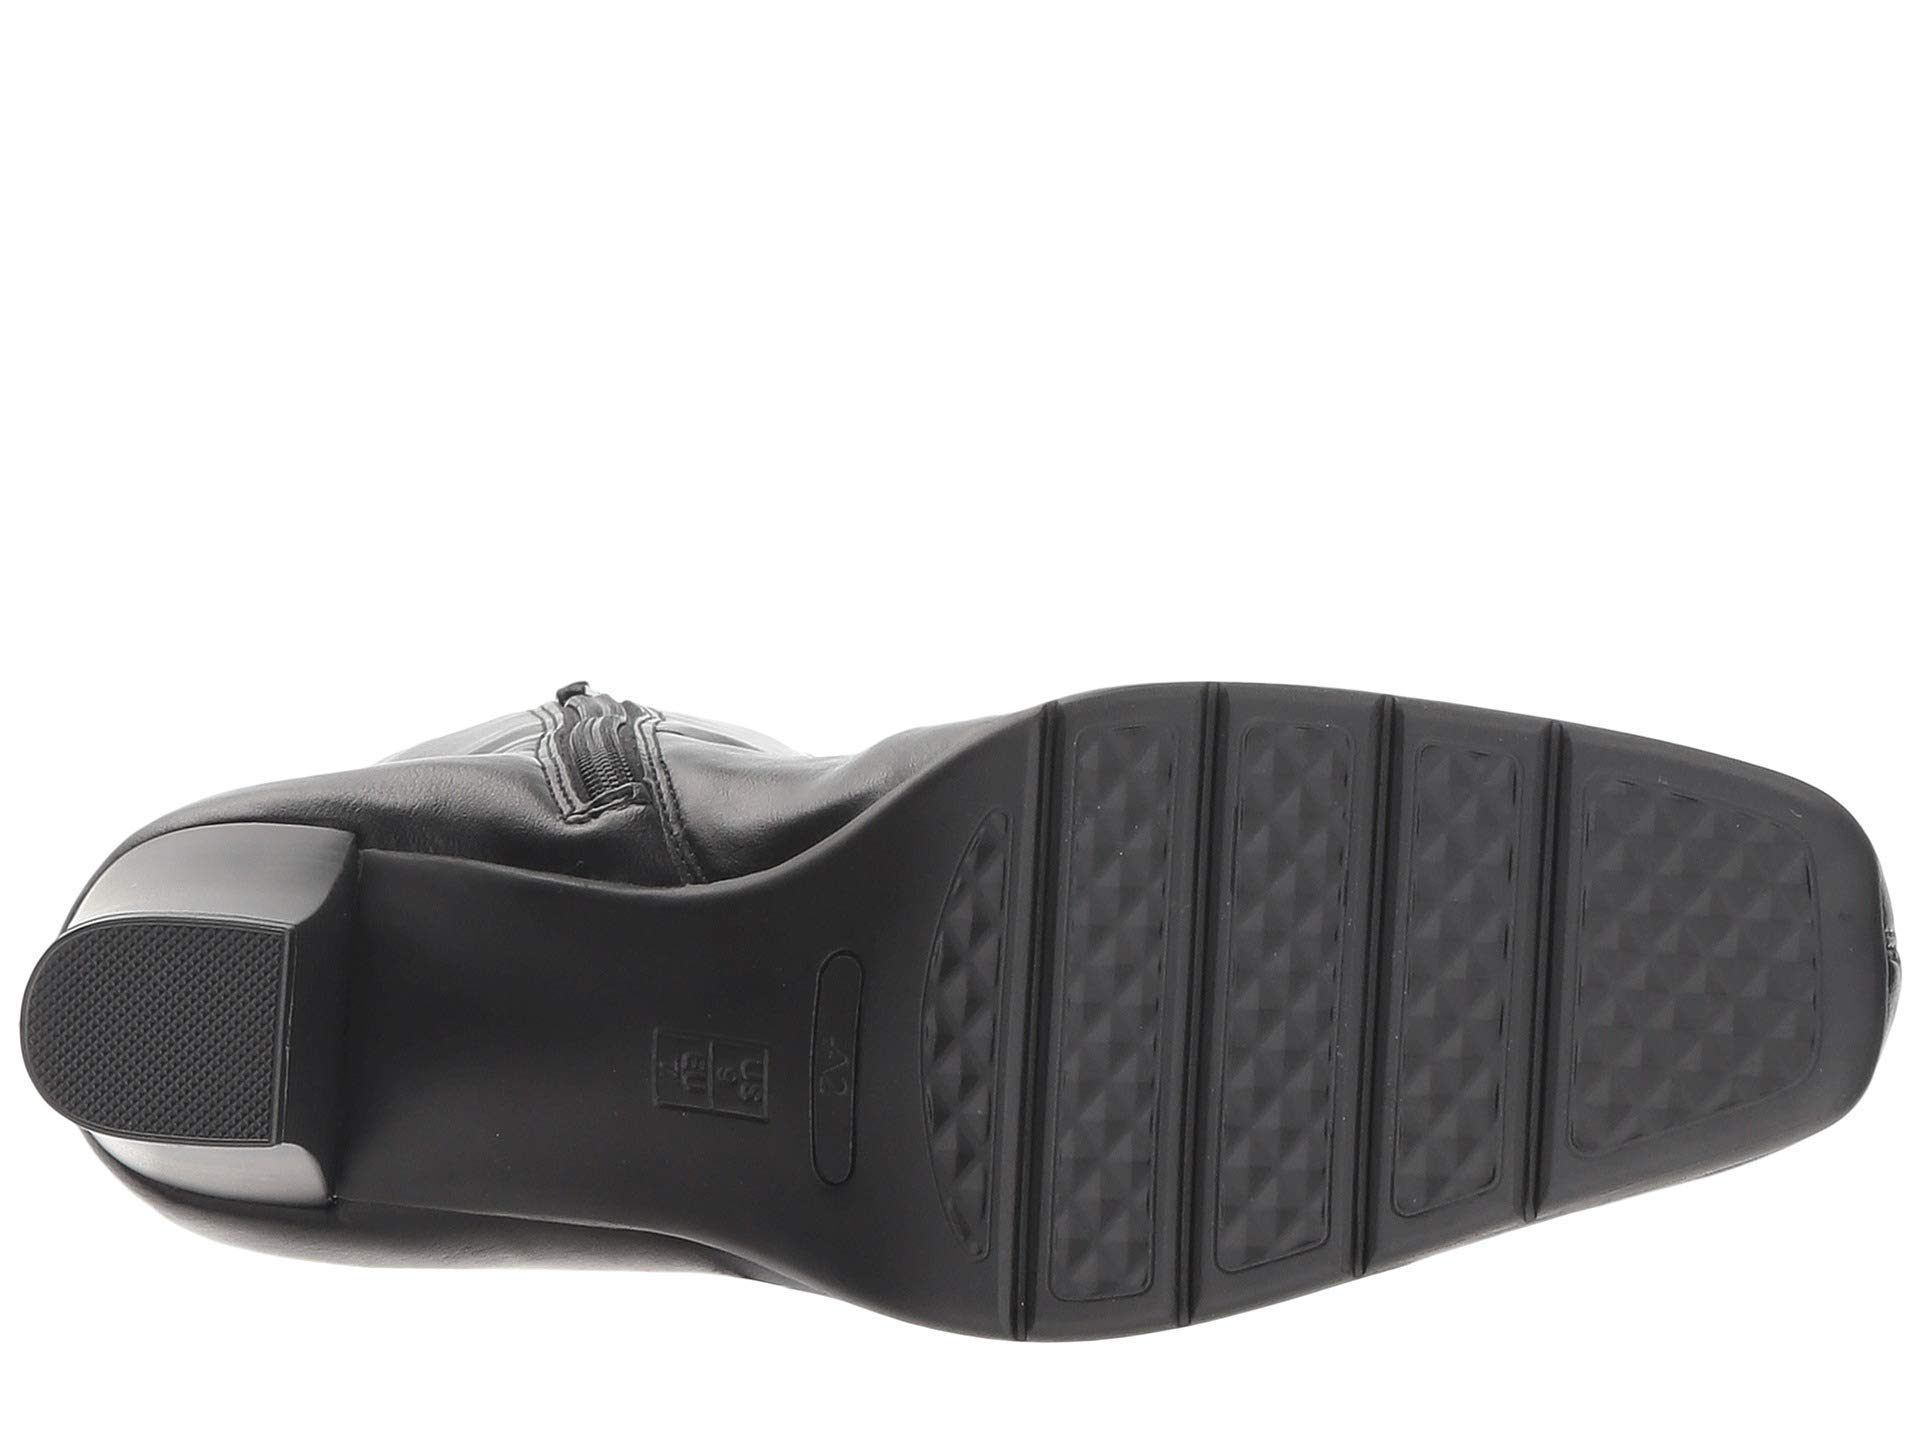quad: (1581, 791, 1816, 1109), (1215, 712, 1333, 1249), (1067, 722, 1181, 1280), (1389, 737, 1510, 1193), (934, 871, 1016, 1263)
triangle: (1581, 791, 1816, 1109), (1215, 712, 1333, 1249), (1067, 722, 1181, 1280), (1389, 737, 1510, 1193), (934, 871, 1016, 1263)
